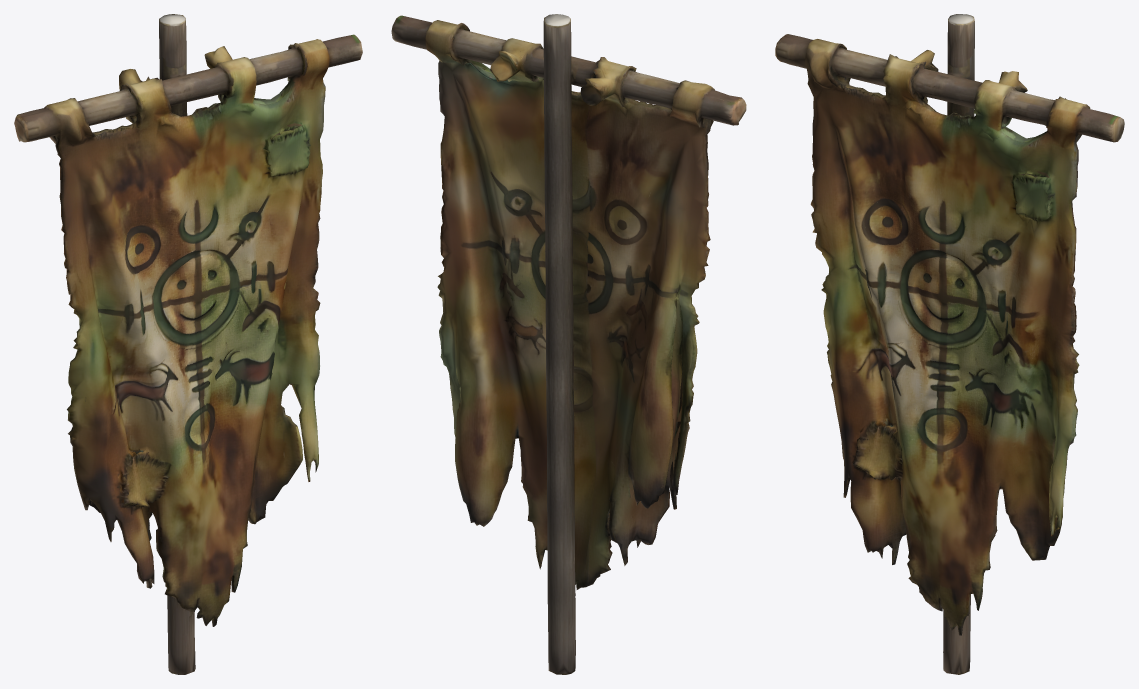
The model's file is banner_original.glb.
3 views of the same model, side by side, from view 1: azimuth 30°, elevation 25°; view 2: azimuth 150°, elevation 25°; view 3: azimuth 330°, elevation 25° (orthographic).
Size of the model in its own units: 1.04 by 1.91 by 0.2191.
1 material, 1 textured.
